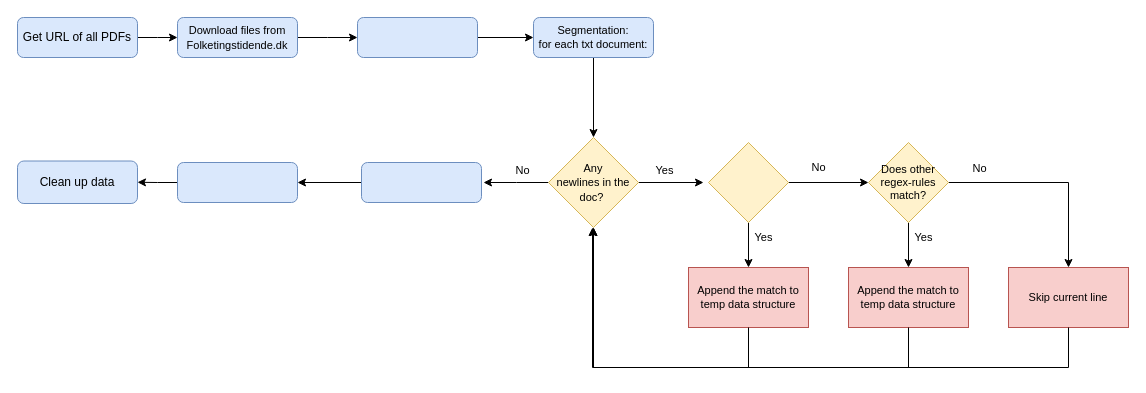
Image size: 1146x393. Some labels were removed from this diagram. The centre of each missing label's shape, as x and y in pixels:
Combine data with metadata: the point at 237,182
Convert each PDF to txt-document: the point at 417,37
Is there a speaker name on current line?: the point at 748,182
Write delimited data to new document: the point at 421,182
